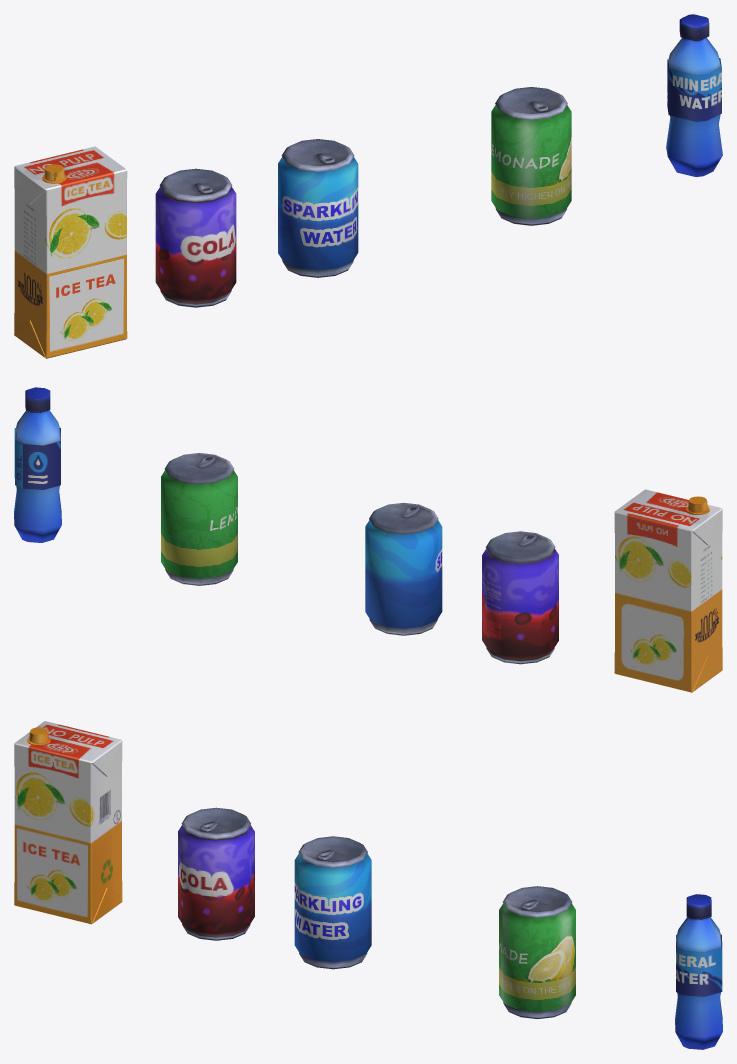
Rendered from cold drinks.fbx.
3 renders of one model, top to bottom at view 1: azimuth 30°, elevation 25°; view 2: azimuth 150°, elevation 25°; view 3: azimuth 330°, elevation 25°, orthographic. The views are drawn at different scales.
Visible parts, largest first — view 1: ICE TEA.010, COLA, LEMONADE, SPARKILING WATER, MINERAL WATER; view 2: ICE TEA.010, SPARKILING WATER, LEMONADE, COLA, MINERAL WATER; view 3: ICE TEA.010, SPARKILING WATER, LEMONADE, COLA, MINERAL WATER.
Boxes of the visible parts, x1=… form: ICE TEA.010: x1=14, y1=146, x2=127, y2=358; COLA: x1=155, y1=168, x2=236, y2=307; LEMONADE: x1=491, y1=87, x2=571, y2=225; SPARKILING WATER: x1=278, y1=139, x2=358, y2=277; MINERAL WATER: x1=666, y1=14, x2=722, y2=176; ICE TEA.010: x1=614, y1=489, x2=722, y2=692; SPARKILING WATER: x1=365, y1=502, x2=442, y2=635; LEMONADE: x1=161, y1=453, x2=237, y2=585; COLA: x1=482, y1=531, x2=558, y2=664; MINERAL WATER: x1=14, y1=387, x2=61, y2=542; ICE TEA.010: x1=14, y1=721, x2=122, y2=924; SPARKILING WATER: x1=294, y1=836, x2=371, y2=969; LEMONADE: x1=499, y1=886, x2=575, y2=1018; COLA: x1=178, y1=807, x2=254, y2=940; MINERAL WATER: x1=675, y1=894, x2=722, y2=1049.
Size of the model in its own units: 1.34 by 0.3265 by 0.1673.
Materials: 1 (1 with a texture image).
